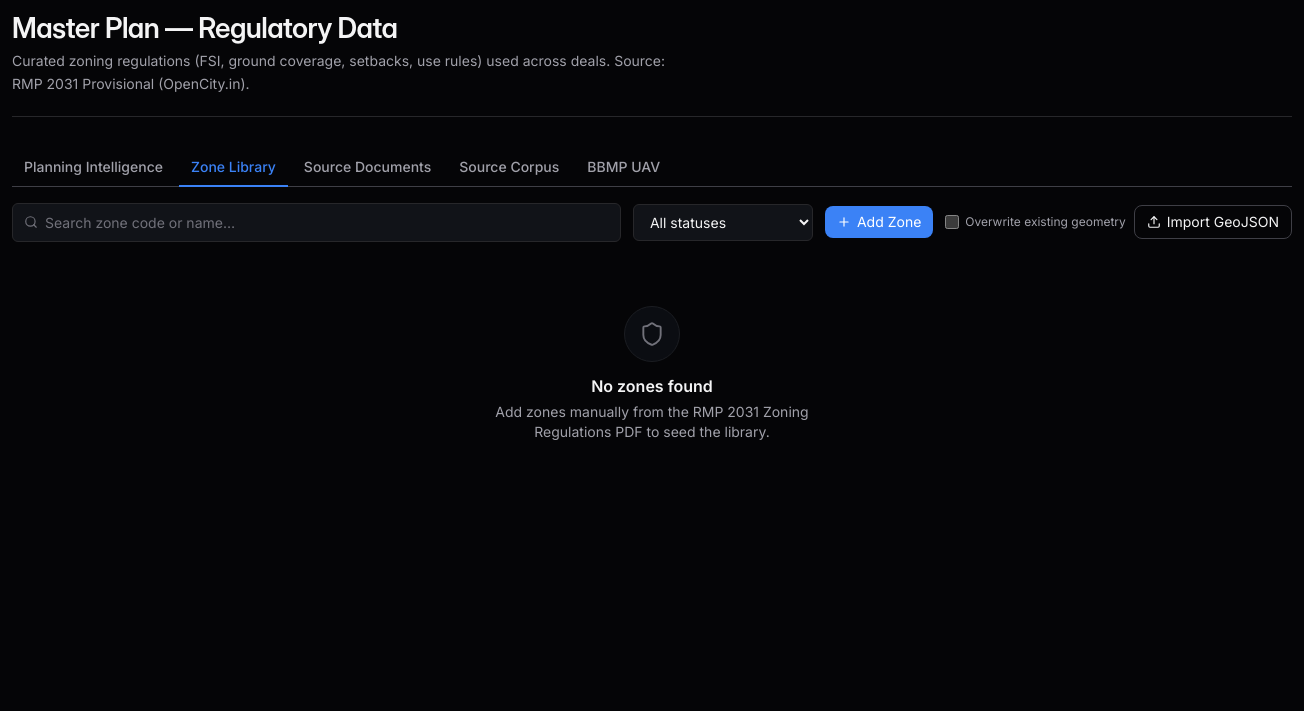
Scenario: MasterPlanAdminPage source documents › renders controlled source intake and empty state
The width and height of the screenshot is (1304, 711).
Click the button "Source Documents" at {"x": 368, "y": 168}, box [292, 149, 443, 187]
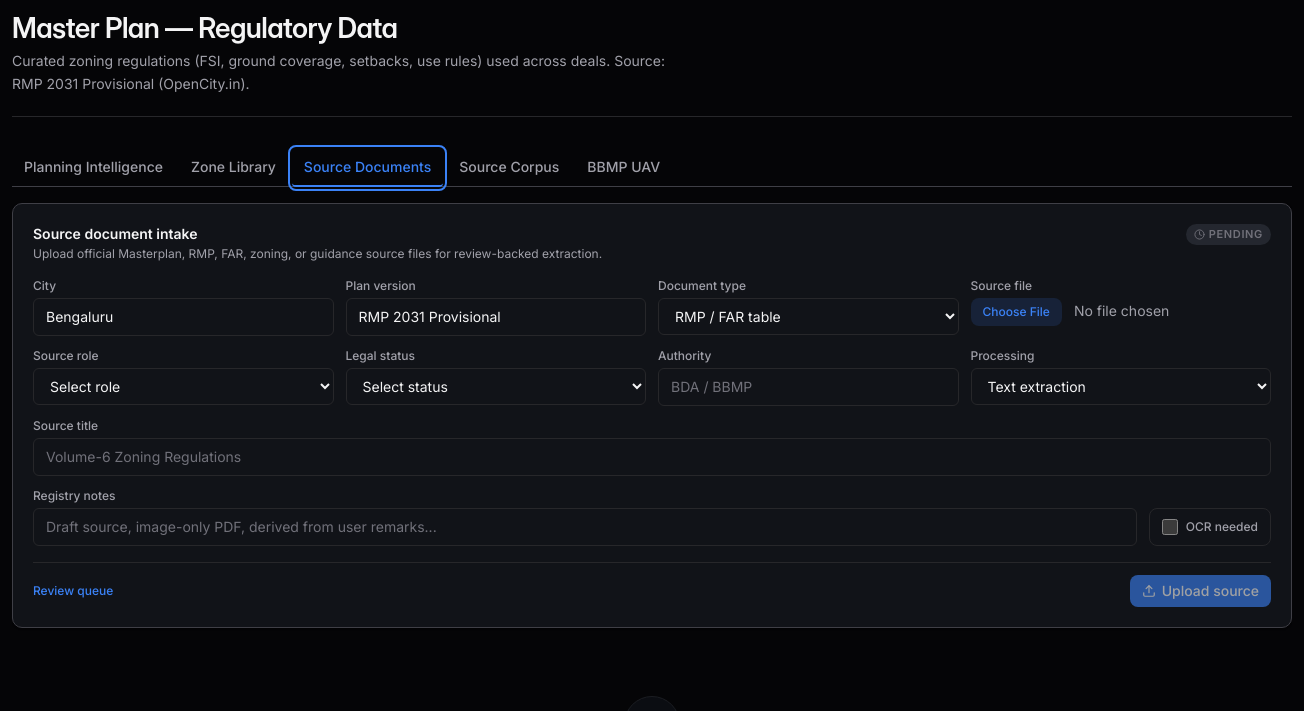
Check: the heading "Source document intake" is shown, box [33, 225, 198, 242]
Check: the button "Upload source" is disabled, box [1130, 575, 1271, 607]
